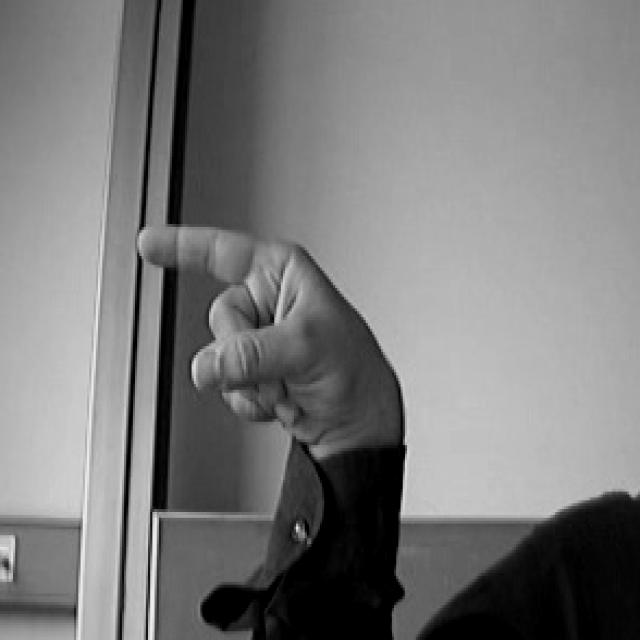P: (122, 188, 436, 485)
